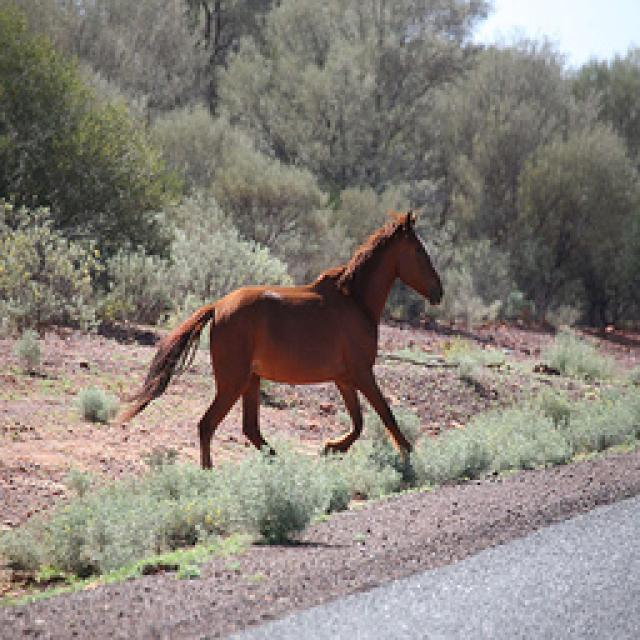not_pig: (112, 208, 442, 470)
